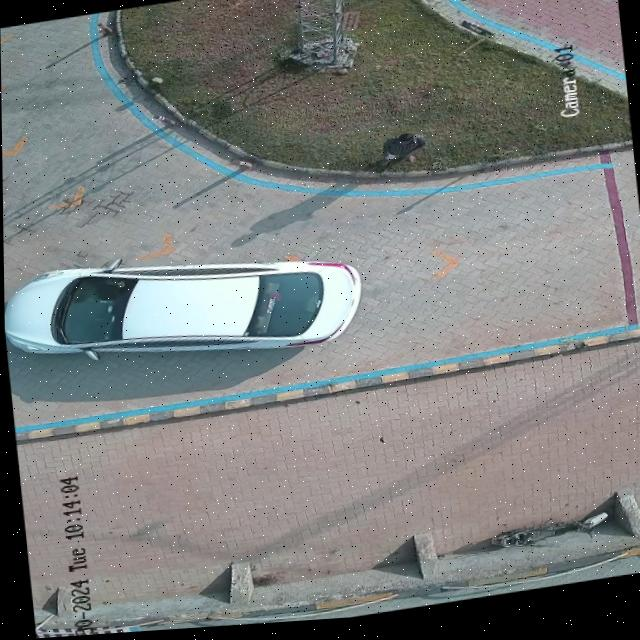car: (4, 263, 359, 358)
